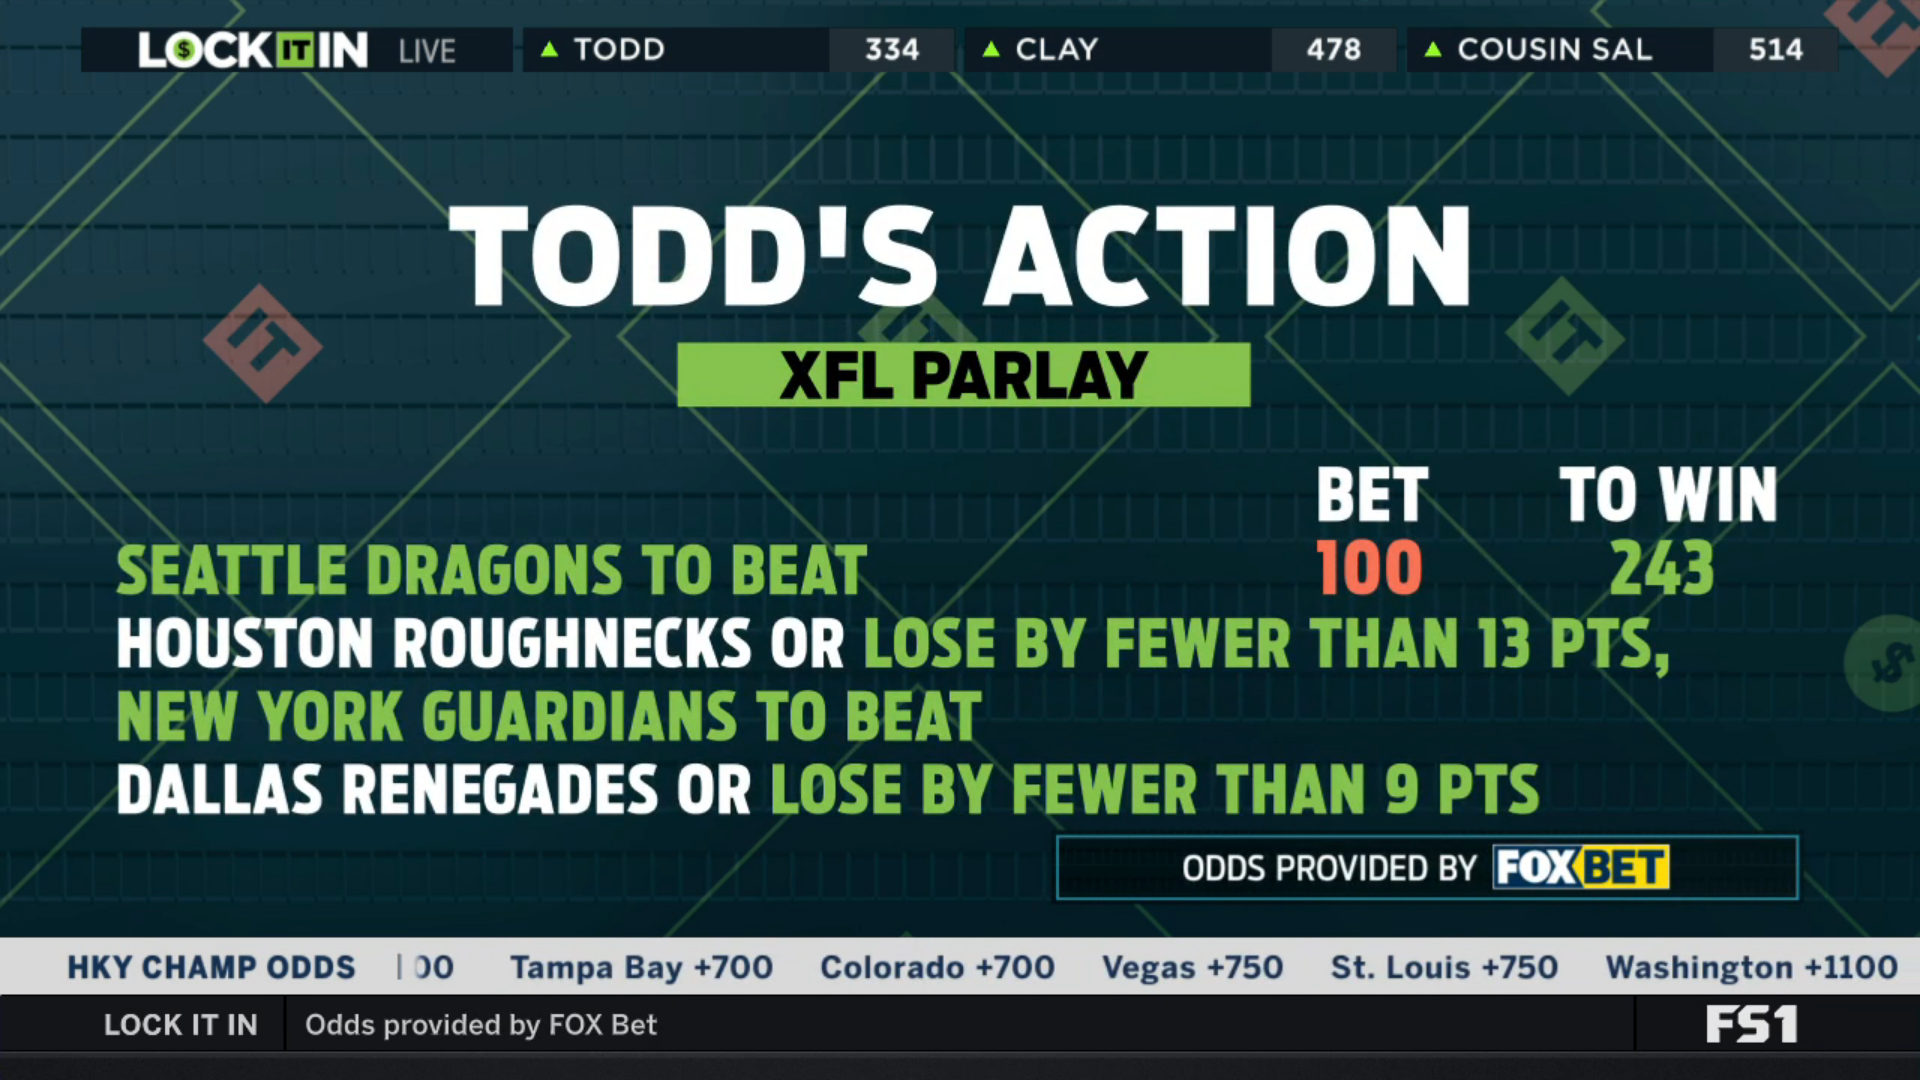Bet: (104, 531, 1675, 824)
Bet Amount: (1300, 452, 1444, 604)
Subtitle: (665, 328, 1261, 419)
Title: (429, 191, 1487, 316)
To Win: (1544, 451, 1788, 608)
Top Bar: (73, 18, 1845, 83)
